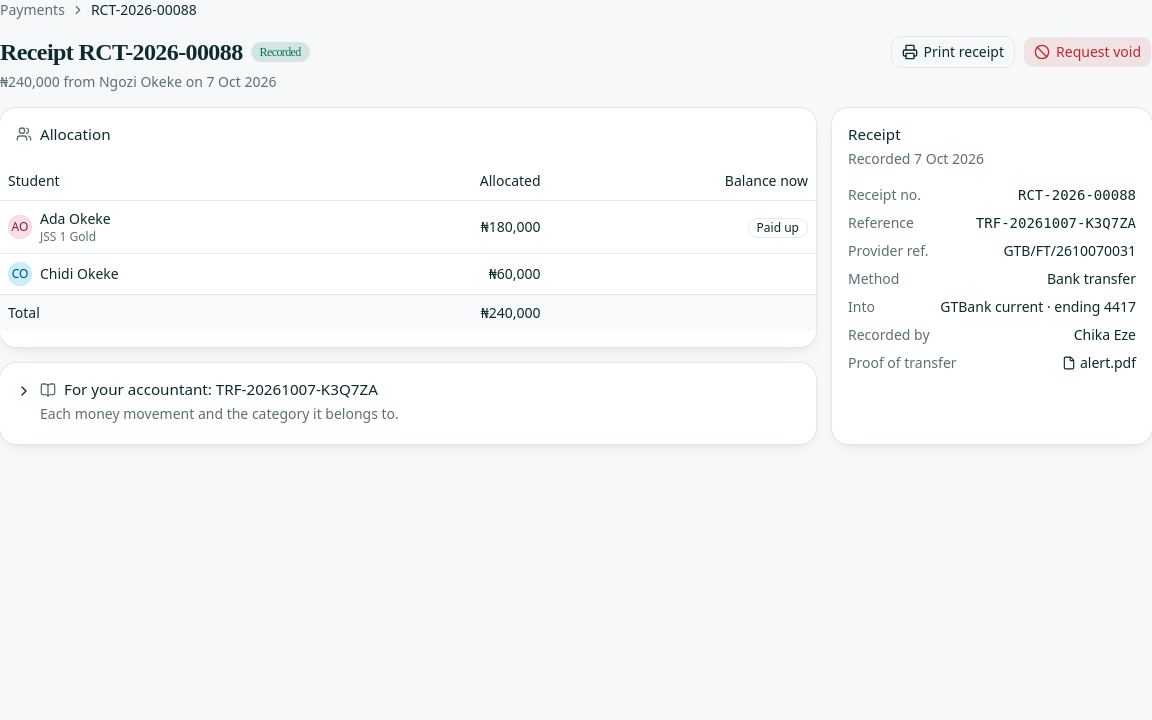
Test case: ReceiptPage cancellation › shows the refusal in the dialog when a void already exists
Step 1. Click the button "Request void" → (1088, 52), box x1=1023 y1=36 x2=1151 y2=68
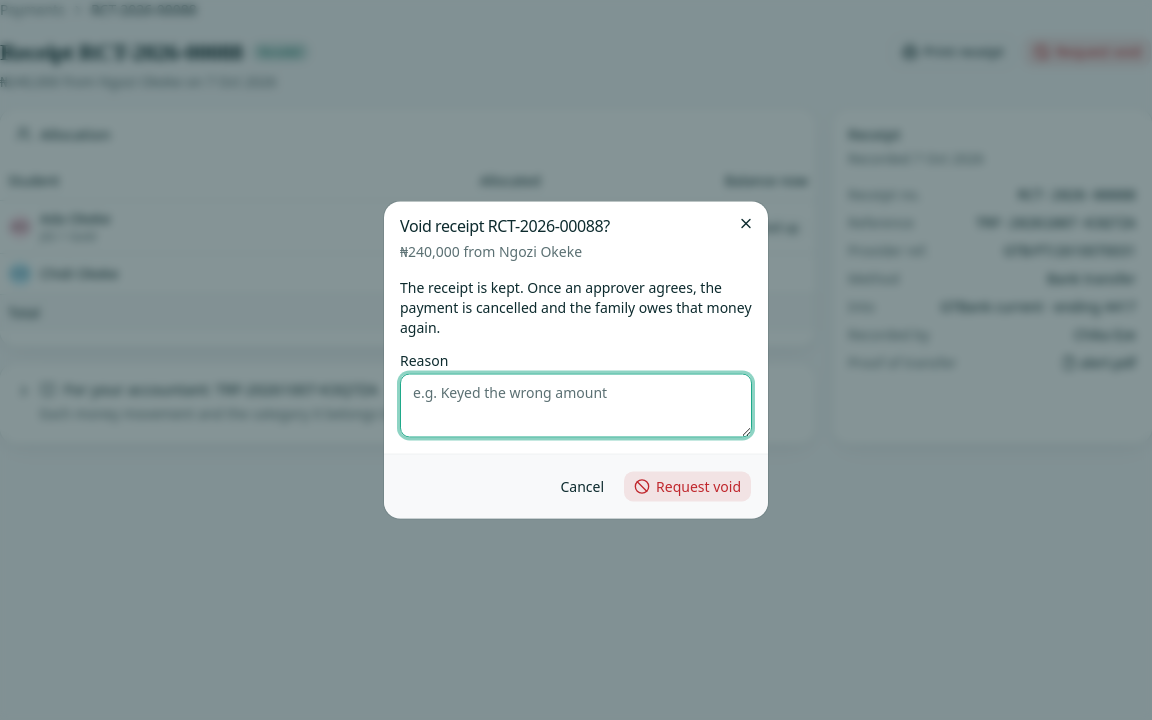
Step 2. Type "Wrong child" into the text box labelled "Reason" → (576, 406), box x1=400 y1=374 x2=752 y2=438
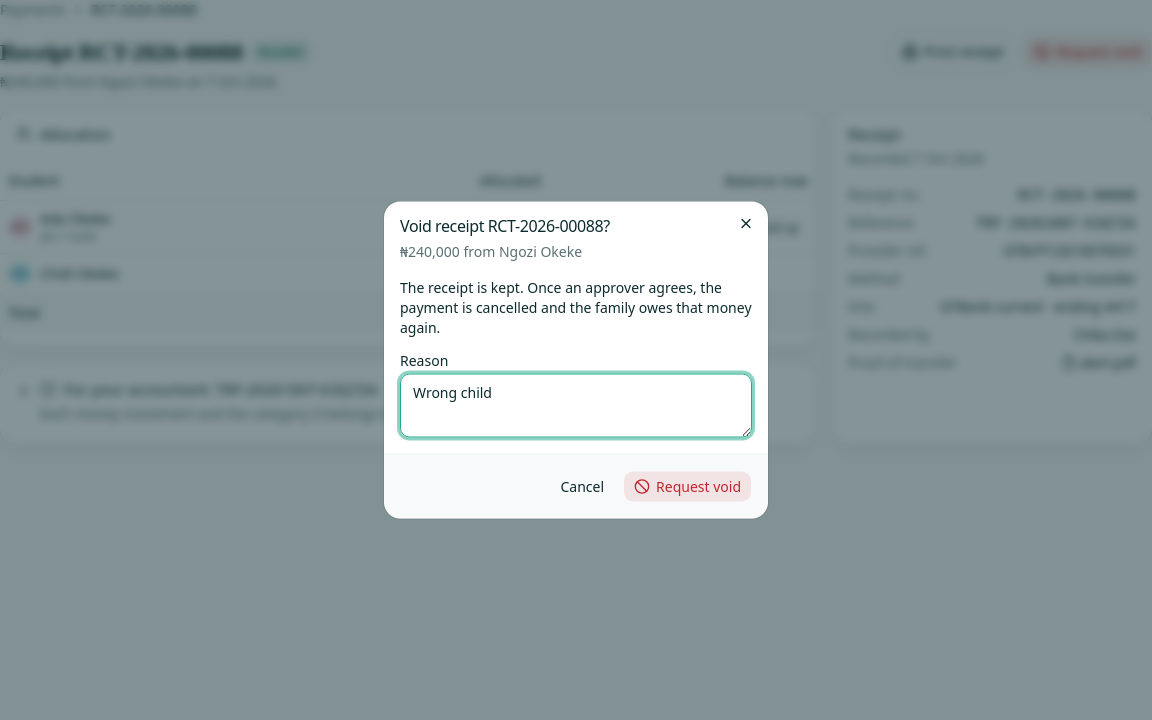
Step 3. Click the button "Request void" → (688, 486), box x1=623 y1=470 x2=752 y2=502
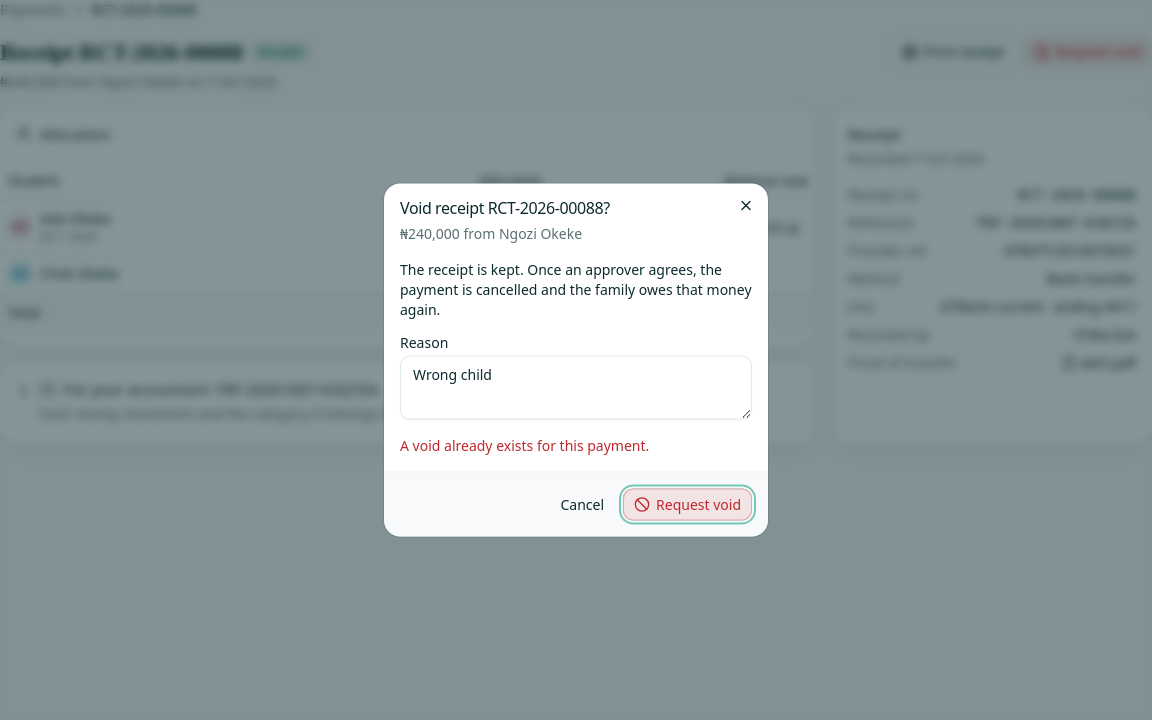
Expected: the text "A void already exists for this payment." is shown, x1=400 y1=436 x2=649 y2=454
